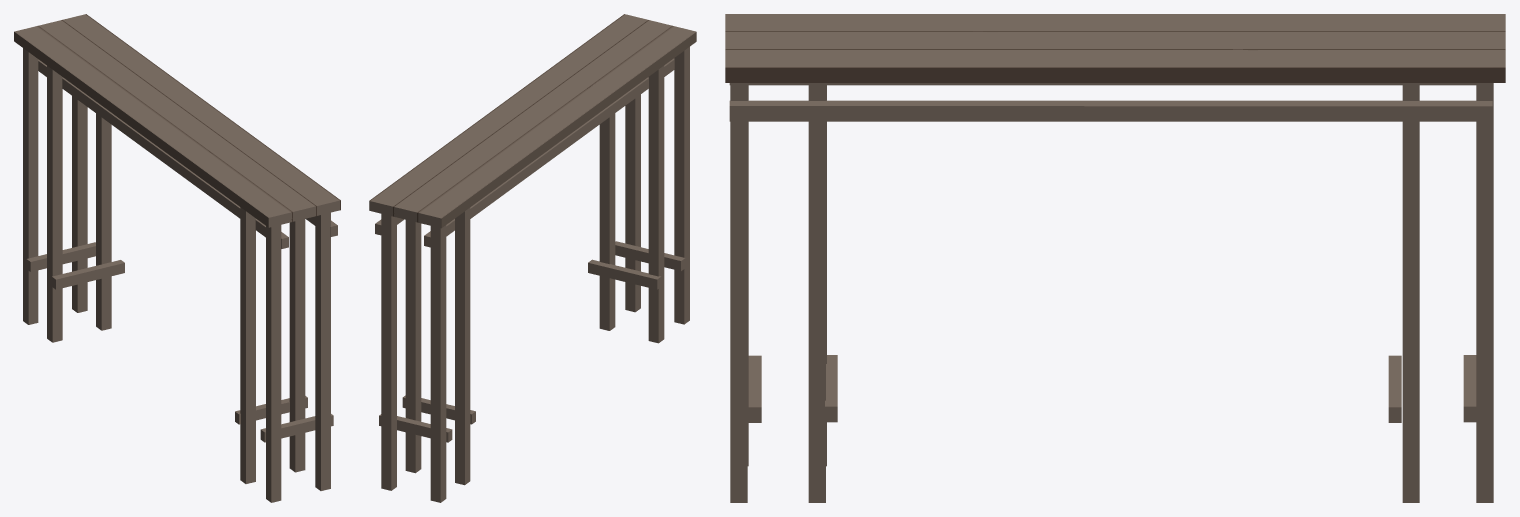
Rendered from platform_pt1.glb.
The picture shows the model from 3 angles, left to right: view 1: azimuth 30°, elevation 25°; view 2: azimuth 150°, elevation 25°; view 3: azimuth 270°, elevation 25°; orthographic projection. The views are drawn at different scales.
Parts seen in each view (by area): view 1: Object_2, Object_3; view 2: Object_2, Object_3; view 3: Object_3, Object_2.
Part boxes in pixels (bbox=[...]): Object_2: bbox=[23, 48, 337, 502]; Object_3: bbox=[14, 14, 340, 227]; Object_2: bbox=[375, 47, 689, 502]; Object_3: bbox=[369, 14, 696, 228]; Object_3: bbox=[725, 14, 1505, 82]; Object_2: bbox=[729, 83, 1493, 502].
Size of the model in its own units: 0.7097 by 2.68 by 4.3.
Materials: 2 (2 with a texture image).
